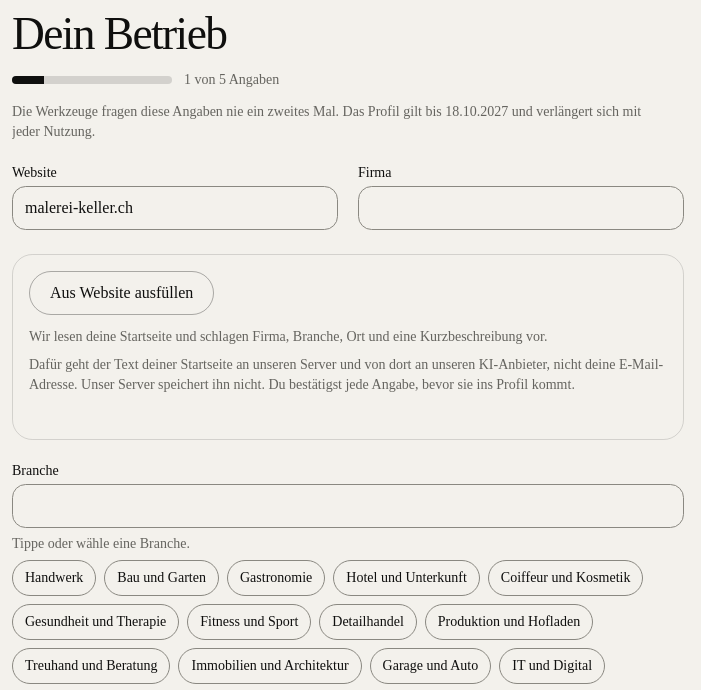
Test case: Aus Website ausfüllen › meldet einen Ausfall der KI ruhig
What coordinates should you click on to do the following:
click the button "Aus Website ausfüllen"
I would click on:
 (122, 293)
Its box is [29,271,214,315].
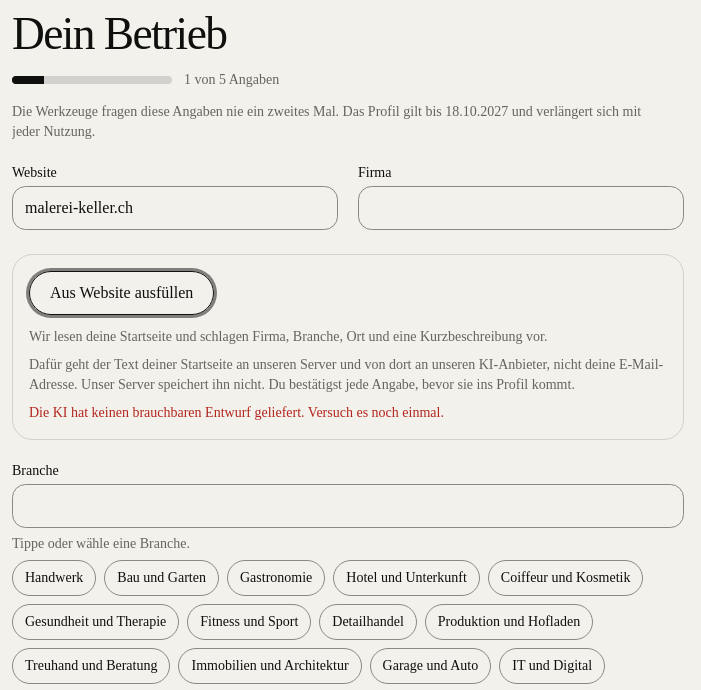
expect the text "Die KI hat keinen brauchbaren Entwurf geliefert. Versuch es noch einmal." is shown: met, box [29,405,444,420]
